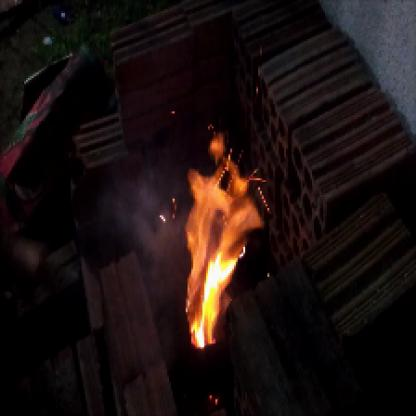Fire: (164, 117, 270, 353)
